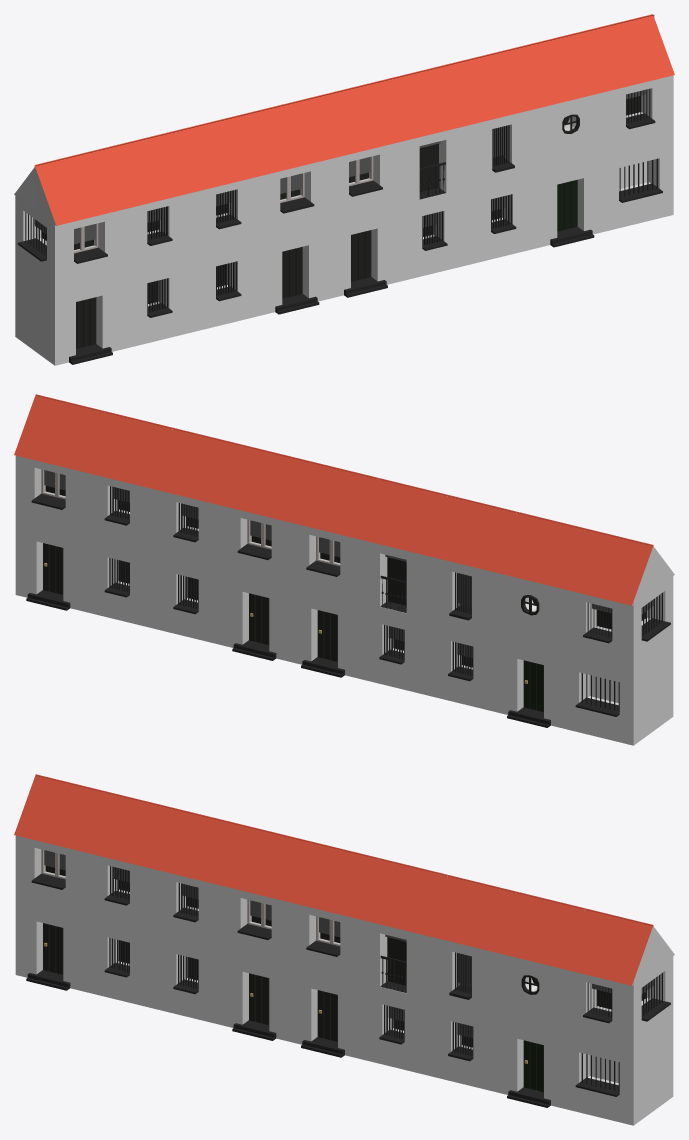
Rendered from Casa_Procedural_11.fbx.
3 views of the same model, one above another, from view 1: azimuth 30°, elevation 25°; view 2: azimuth 150°, elevation 25°; view 3: azimuth 330°, elevation 25° (orthographic).
Parts seen in each view (by area): view 1: 11; view 2: 11; view 3: 11.
Boxes of the visible parts, bbox=[...] form: 11: bbox=[14, 14, 674, 365]; 11: bbox=[14, 394, 674, 745]; 11: bbox=[14, 774, 674, 1125].
Bounding box in the file's own units: 916 × 259 × 118.
